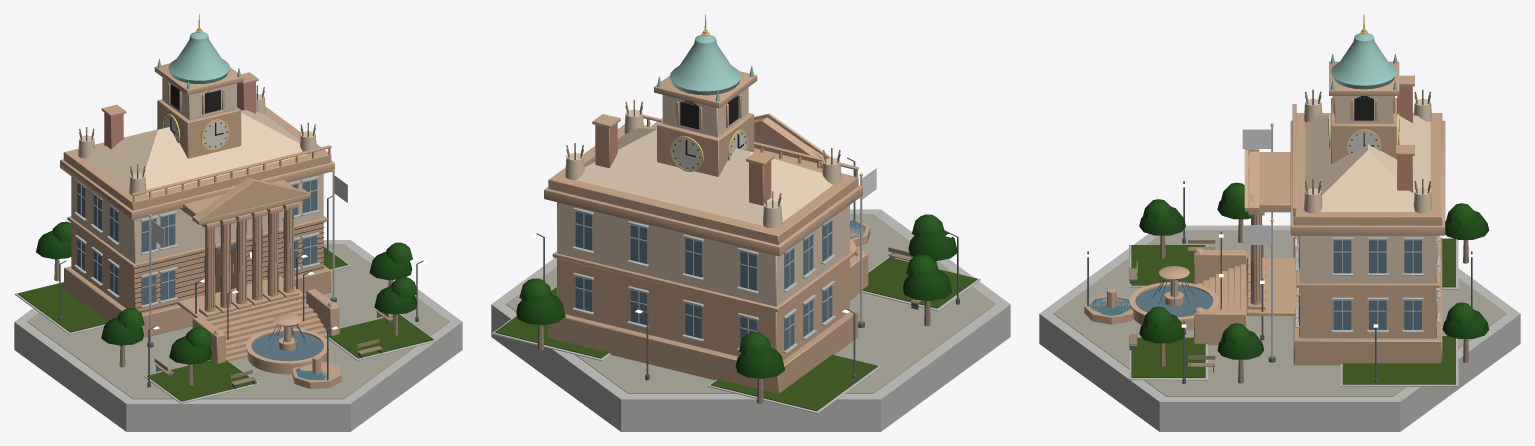
File: cityHall_africa.glb
3 views of the same model, side by side, from view 1: azimuth 30°, elevation 25°; view 2: azimuth 150°, elevation 25°; view 3: azimuth 270°, elevation 25° (orthographic). The views are drawn at different scales.
Parts seen in each view (by area): view 1: stone, wall_concrete, plaster, pavers, turf, leaf, glass, dark, copper, wood, steel_dark, brick (+3 smaller); view 2: stone, wall_concrete, plaster, pavers, leaf, turf, glass, copper, brick, wood, paint, steel_dark (+1 smaller); view 3: stone, wall_concrete, plaster, pavers, turf, leaf, glass, copper, wood, banner, steel_dark, brick (+2 smaller).
Part boxes in pixels (box(x1,y1,x2,y2)): stone: box(60, 63, 341, 388); wall_concrete: box(14, 176, 462, 431); plaster: box(71, 77, 323, 263); pavers: box(27, 244, 449, 399); turf: box(17, 246, 433, 401); leaf: box(36, 221, 417, 364); glass: box(77, 179, 326, 380); dark: box(134, 84, 324, 312); copper: box(157, 32, 240, 89); wood: box(54, 85, 398, 385); steel_dark: box(58, 196, 423, 389); brick: box(104, 81, 255, 148); stone: box(544, 71, 870, 393); wall_concrete: box(491, 207, 1010, 431); plaster: box(557, 87, 849, 306); pavers: box(506, 214, 995, 393); leaf: box(516, 214, 956, 378); turf: box(495, 257, 977, 411); glass: box(575, 211, 865, 350); copper: box(657, 34, 753, 101); brick: box(595, 123, 771, 205); wood: box(537, 99, 930, 403); paint: box(671, 131, 746, 170); steel_dark: box(536, 157, 959, 380); stone: box(1084, 61, 1445, 365); wall_concrete: box(1039, 225, 1520, 431); plaster: box(1299, 96, 1436, 283); pavers: box(1053, 230, 1506, 396); turf: box(1131, 238, 1455, 384); leaf: box(1139, 182, 1489, 359); glass: box(1089, 236, 1436, 329); copper: box(1330, 33, 1397, 90); wood: box(1129, 89, 1468, 383); banner: box(1242, 129, 1271, 244); steel_dark: box(1087, 181, 1473, 384); brick: box(1397, 86, 1412, 192).
Size of the model in its own units: 21.3 by 18.6 by 24.6.
